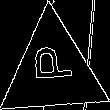P_W: (29, 50, 77, 91)
